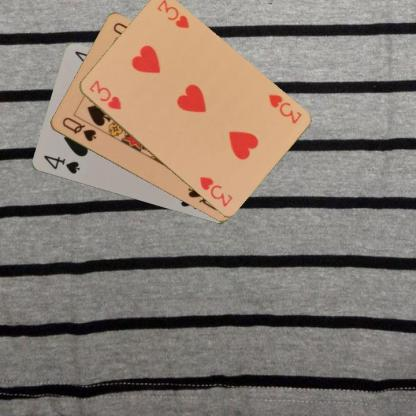3h: (265, 92, 303, 126), (86, 77, 123, 111)
4s: (40, 152, 81, 176)
Qs: (59, 115, 98, 144)
